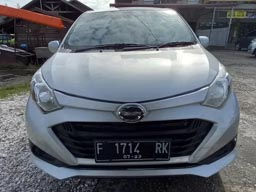plat: (94, 139, 173, 154)
